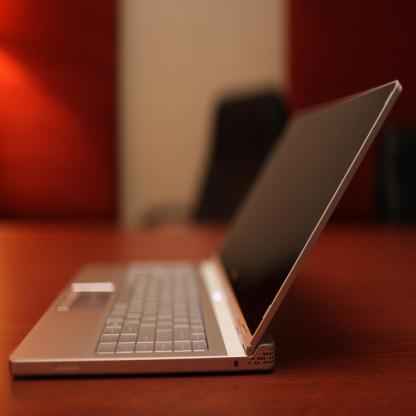board: (8, 77, 400, 376)
